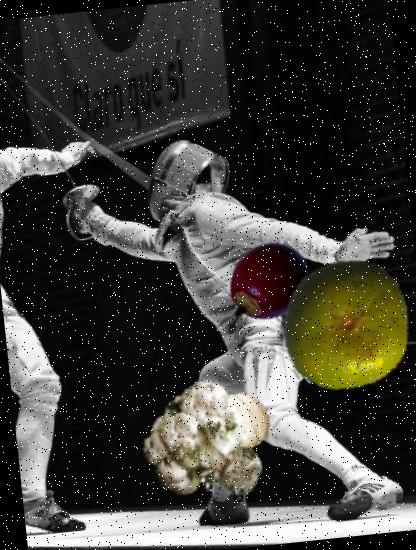Cantaloupe: (210, 390, 274, 452)
Cauliflower: (141, 381, 277, 517)
Pomelo: (272, 252, 416, 399)
Tamarillo: (219, 236, 316, 332)
